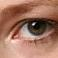eye: (28, 21, 46, 35)
